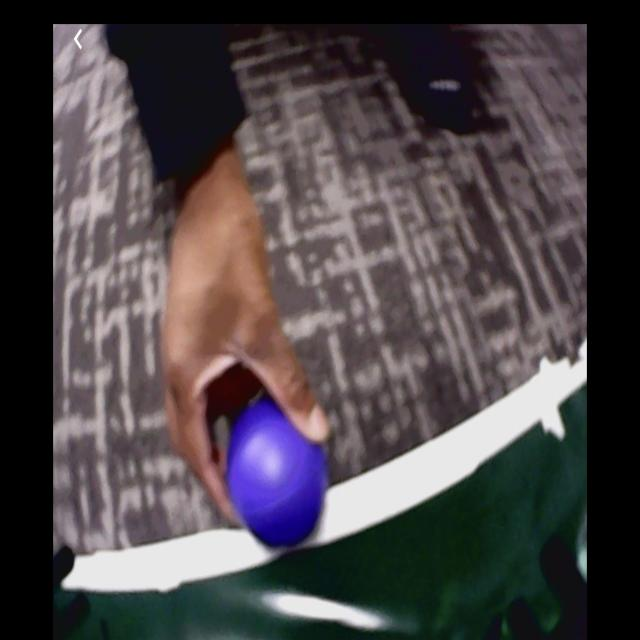ball: (231, 400, 326, 547)
